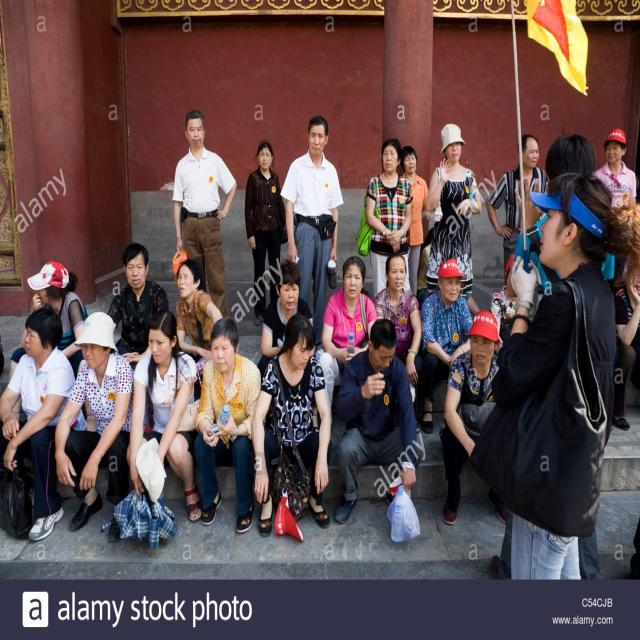body: (488, 172, 638, 580), (488, 133, 617, 581), (49, 308, 147, 546), (246, 310, 334, 536), (0, 307, 86, 538), (332, 316, 418, 526), (189, 314, 267, 536), (125, 308, 204, 522), (278, 113, 346, 360), (439, 308, 509, 526), (172, 109, 238, 318), (8, 260, 90, 423), (484, 133, 554, 294), (423, 122, 483, 302), (370, 252, 426, 436), (318, 255, 381, 414), (242, 136, 292, 329), (420, 262, 474, 435), (107, 242, 168, 372), (257, 258, 317, 386), (364, 136, 411, 299), (610, 246, 640, 431), (174, 259, 223, 363), (399, 144, 430, 298), (593, 127, 638, 211), (489, 252, 518, 351), (626, 516, 640, 586), (0, 332, 12, 378)
